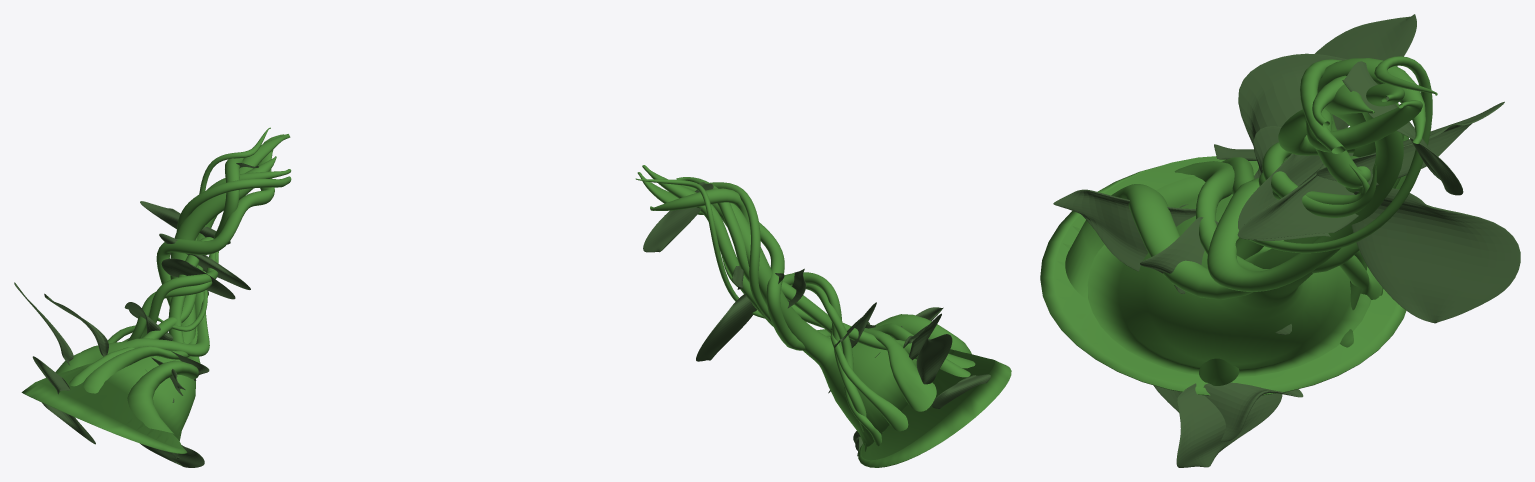
The model's file is BeansalkBridge#04.fbx.
3 views of the same model, side by side, from view 1: azimuth 30°, elevation 25°; view 2: azimuth 150°, elevation 25°; view 3: azimuth 270°, elevation 25° (orthographic). The views are drawn at different scales.
Parts seen in each view (by area): view 1: Stalk12.067, Stalk12.071, Stalk12.076, Stalk12.072, Stalk12.070, Stalk12.069, Stalk12.075, Stalk12.073, Stalk12.074, Stalk12.076|Plane.012|Dupli|1, Stalk12.076|Plane.012|Dupli|6, Stalk12.076|Plane.012|Dupli| (+4 smaller); view 2: Stalk12.067, Stalk12.076, Stalk12.071, Stalk12.075, Stalk12.072, Stalk12.070, Stalk12.069, Stalk12.076|Plane.012|Dupli|5, Stalk12.073, Stalk12.067|Plane.012|Dupli|5, Stalk12.074, Stalk12.076|Plane.012|Dupli|3 (+2 smaller); view 3: Stalk12.067, Stalk12.076|Plane.012|Dupli|5, Stalk12.071, Stalk12.076, Stalk12.076|Plane.012|Dupli|4, Stalk12.072, Stalk12.069, Stalk12.067|Plane.012|Dupli|7, Stalk12.067|Plane.012|Dupli|6, Stalk12.075, Stalk12.076|Plane.012|Dupli|6, Stalk12.076|Plane.012|Dupli|3 (+9 smaller).
Part boxes in pixels (bbox=[...]): Stalk12.067: bbox=[21, 156, 276, 453]; Stalk12.071: bbox=[127, 134, 284, 434]; Stalk12.076: bbox=[55, 134, 290, 373]; Stalk12.072: bbox=[83, 176, 291, 393]; Stalk12.070: bbox=[69, 169, 291, 386]; Stalk12.069: bbox=[168, 158, 243, 343]; Stalk12.075: bbox=[107, 127, 270, 343]; Stalk12.073: bbox=[122, 251, 218, 341]; Stalk12.074: bbox=[127, 252, 216, 341]; Stalk12.076|Plane.012|Dupli|1: bbox=[161, 258, 235, 299]; Stalk12.076|Plane.012|Dupli|6: bbox=[159, 233, 250, 289]; Stalk12.076|Plane.012|Dupli|: bbox=[140, 201, 230, 244]; Stalk12.067: bbox=[682, 185, 1011, 467]; Stalk12.076: bbox=[642, 165, 936, 411]; Stalk12.071: bbox=[637, 172, 971, 354]; Stalk12.075: bbox=[635, 178, 908, 431]; Stalk12.072: bbox=[710, 182, 975, 368]; Stalk12.070: bbox=[676, 177, 970, 377]; Stalk12.069: bbox=[650, 188, 832, 333]; Stalk12.076|Plane.012|Dupli|5: bbox=[696, 293, 756, 361]; Stalk12.073: bbox=[722, 257, 867, 451]; Stalk12.067|Plane.012|Dupli|5: bbox=[643, 182, 713, 252]; Stalk12.074: bbox=[790, 283, 881, 446]; Stalk12.076|Plane.012|Dupli|3: bbox=[916, 334, 952, 384]; Stalk12.067: bbox=[1040, 84, 1406, 395]; Stalk12.076|Plane.012|Dupli|5: bbox=[1351, 188, 1520, 323]; Stalk12.071: bbox=[1065, 100, 1422, 300]; Stalk12.076: bbox=[1207, 83, 1404, 291]; Stalk12.076|Plane.012|Dupli|4: bbox=[1238, 53, 1347, 178]; Stalk12.072: bbox=[1174, 59, 1408, 271]; Stalk12.069: bbox=[1199, 58, 1425, 385]; Stalk12.067|Plane.012|Dupli|7: bbox=[1176, 383, 1282, 467]; Stalk12.067|Plane.012|Dupli|6: bbox=[1053, 189, 1195, 271]; Stalk12.075: bbox=[1249, 56, 1437, 253]; Stalk12.076|Plane.012|Dupli|6: bbox=[1237, 153, 1358, 239]; Stalk12.076|Plane.012|Dupli|3: bbox=[1315, 14, 1416, 129].
Bounding box in the file's own units: 156 × 119 × 75.28.
